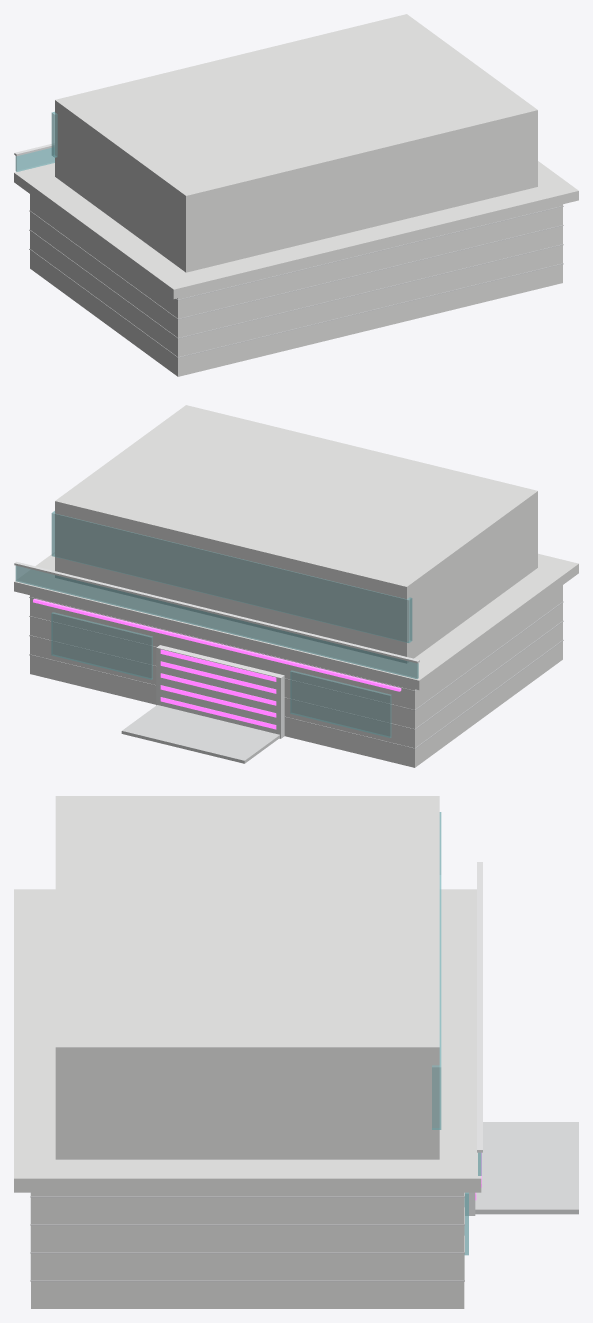
Rendered from villa-east.glb.
3 renders of one model, top to bottom at view 1: azimuth 30°, elevation 25°; view 2: azimuth 150°, elevation 25°; view 3: azimuth 270°, elevation 25°, orthographic. The views are drawn at different scales.
Visible parts, largest first — view 1: villa-east; view 2: villa-east; view 3: villa-east.
Part boxes in pixels (<box>): villa-east: <box>14,14,578,376</box>; villa-east: <box>14,405,578,767</box>; villa-east: <box>14,796,578,1308</box>.
Bounding box in the file's own units: 22.1 × 8.9 × 18.25.
